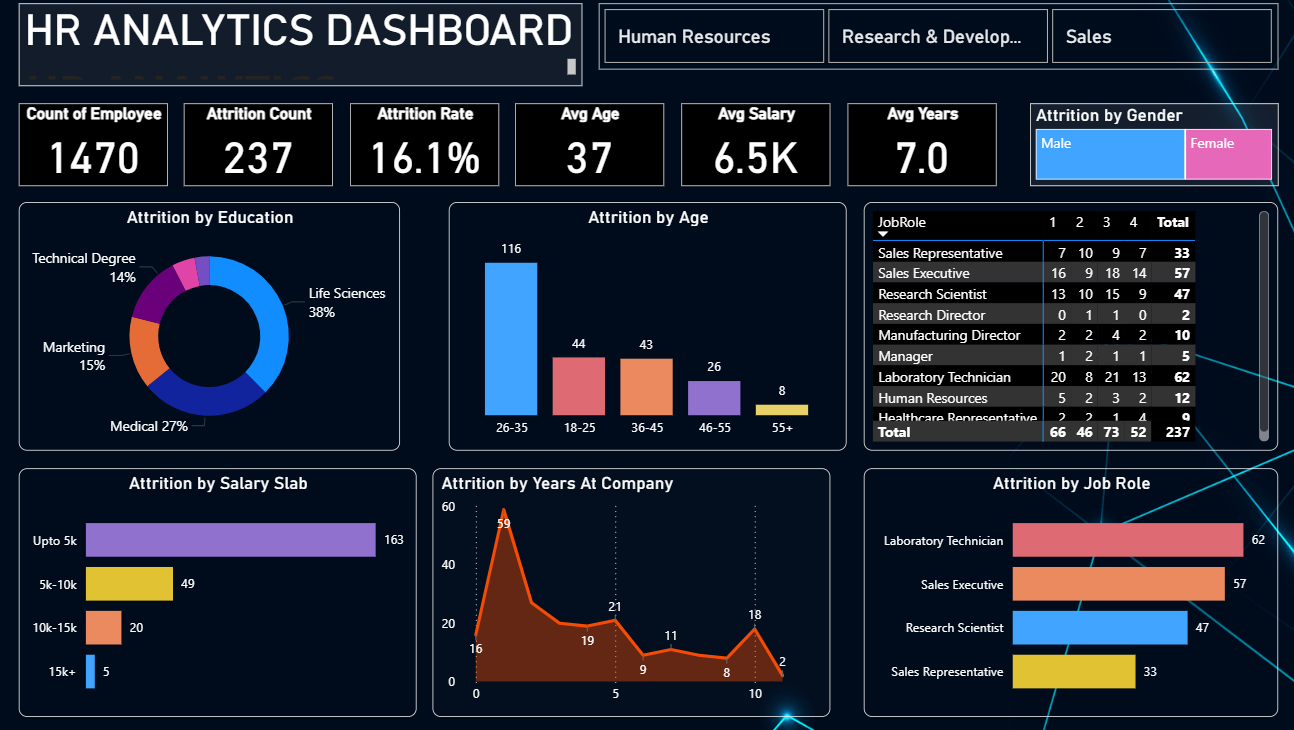

This screenshot's page, from the dashboard's own definition file:
{"tool":"powerbi","page":{"name":"Page 1","canvas":[1280,720],"ordinal":0},"visuals":[{"type":"card","title":"Count of Employee","fields":{"Values":["CountNonNull(HR_Analytics.EmpID)"]},"box":[32,112,144,80],"z":0},{"type":"card","title":"Attrition Rate","fields":{"Values":["HR_Analytics.AttritionRate"]},"box":[352,112,144,80],"z":1000},{"type":"card","title":"Avg Age","fields":{"Values":["Avg(HR_Analytics.Age)"]},"box":[512,112,144,80],"z":2000},{"type":"card","title":"Avg Salary","fields":{"Values":["Avg(HR_Analytics.MonthlyIncome)"]},"box":[672,112,144,80],"z":3000},{"type":"donutChart","title":"Attrition by Education","fields":{"Category":["HR_Analytics.EducationField"],"Y":["Sum(HR_Analytics.AttritionCount)"]},"box":[32,208,368,240],"z":4000},{"type":"card","title":"Attrition Count","fields":{"Values":["Sum(HR_Analytics.AttritionCount)"]},"box":[192,112,144,80],"z":5000},{"type":"columnChart","title":"Attrition by Age","fields":{"Category":["HR_Analytics.AgeGroup"],"Y":["Sum(HR_Analytics.AttritionCount)"]},"box":[432,208,384,240],"z":6000},{"type":"pivotTable","fields":{"Rows":["HR_Analytics.JobRole"],"Columns":["HR_Analytics.JobSatisfaction"],"Values":["Sum(HR_Analytics.AttritionCount)"]},"box":[848,208,400,240],"z":7000},{"type":"barChart","title":"Attrition by Salary Slab","fields":{"Category":["HR_Analytics.SalarySlab"],"Y":["Sum(HR_Analytics.AttritionCount)"]},"box":[32,464,384,240],"z":8000},{"type":"barChart","title":"Attrition by Job Role","fields":{"Category":["HR_Analytics.JobRole"],"Y":["Sum(HR_Analytics.AttritionCount)"]},"box":[848,464,400,240],"z":9000},{"type":"areaChart","title":" Attrition by Years At Company","fields":{"Y":["Sum(HR_Analytics.AttritionCount)"],"Category":["HR_Analytics.YearsAtCompany"]},"box":[432,464,384,240],"z":10000},{"type":"treemap","title":"Attrition by Gender","fields":{"Group":["HR_Analytics.Gender"],"Values":["Sum(HR_Analytics.AttritionCount)"]},"box":[1008,112,240,80],"z":11000},{"type":"advancedSlicerVisual","fields":{"Values":["HR_Analytics.Department"]},"box":[592,16,656,64],"z":12000},{"type":"textbox","title":"HR ANALYTICS DASHBOARD","box":[32,16,544,80],"z":13000},{"type":"card","title":"Avg Years","fields":{"Values":["Avg(HR_Analytics.YearsAtCompany)"]},"box":[832,112,144,80],"z":14000}]}

Visuals, with their boxes in screenshot pixels (x1, y1, x2, y2), scaled from the page's 1280x720 canvas onto the 1294x730 screenshot:
"Count of Employee" card: left=32, top=114, right=178, bottom=195
"Attrition Rate" card: left=356, top=114, right=501, bottom=195
"Avg Age" card: left=518, top=114, right=663, bottom=195
"Avg Salary" card: left=679, top=114, right=825, bottom=195
"Attrition by Education" donutChart: left=32, top=211, right=404, bottom=454
"Attrition Count" card: left=194, top=114, right=340, bottom=195
"Attrition by Age" columnChart: left=437, top=211, right=825, bottom=454
pivotTable - HR_Analytics.JobRole x HR_Analytics.JobSatisfaction: left=857, top=211, right=1262, bottom=454
"Attrition by Salary Slab" barChart: left=32, top=470, right=421, bottom=714
"Attrition by Job Role" barChart: left=857, top=470, right=1262, bottom=714
" Attrition by Years At Company" areaChart: left=437, top=470, right=825, bottom=714
"Attrition by Gender" treemap: left=1019, top=114, right=1262, bottom=195
advancedSlicerVisual - HR_Analytics.Department: left=598, top=16, right=1262, bottom=81
"HR ANALYTICS DASHBOARD" textbox: left=32, top=16, right=582, bottom=97
"Avg Years" card: left=841, top=114, right=987, bottom=195
